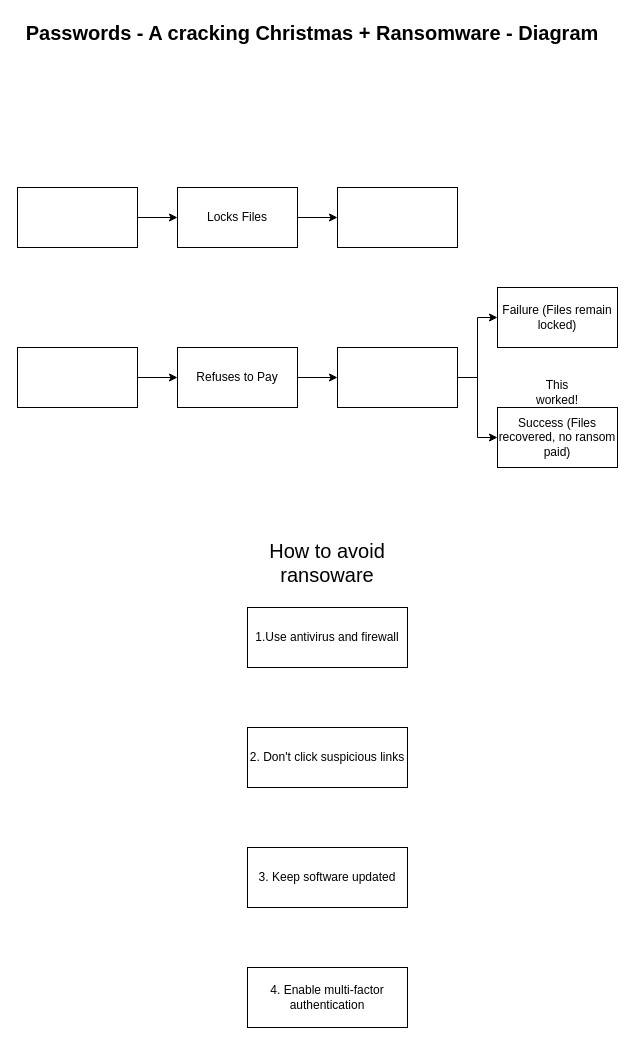
This 635x1045 diagram has some shape labels left out. The shapes that lost their labels are listed below. From the top down, each one's centre as x and y in pixels, then its label:
At point (77, 217): "Attacker".
At point (397, 217): "Asks for Bitcoin".
At point (77, 377): "Victim".
At point (397, 377): "Tries to Crack Password".
